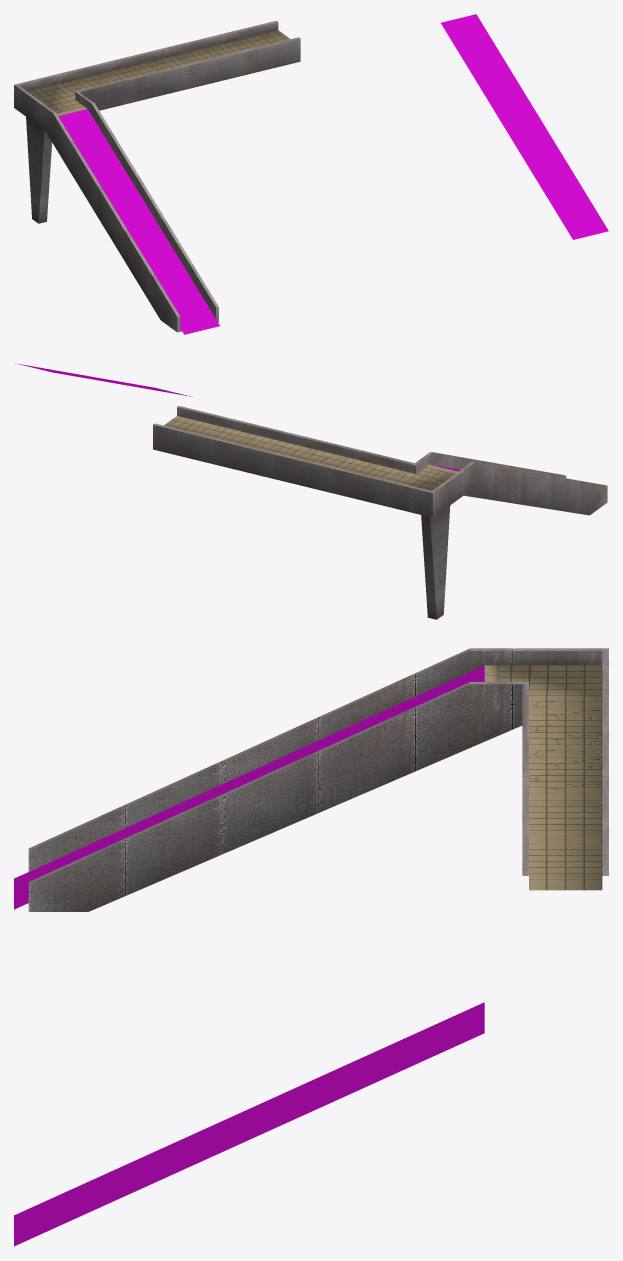
Rendered from M10Z1_FootBridge01.glb.
3 views of the same model, one above another, from view 1: azimuth 30°, elevation 25°; view 2: azimuth 150°, elevation 25°; view 3: azimuth 270°, elevation 25° (orthographic). The views are drawn at different scales.
Visible parts, largest first — view 1: M10Z1_FOOTBRIDGE01; view 2: M10Z1_FOOTBRIDGE01; view 3: M10Z1_FOOTBRIDGE01.
Boxes of the visible parts, left/top/right/bottom form: M10Z1_FOOTBRIDGE01: left=14, top=14, right=608, bottom=334; M10Z1_FOOTBRIDGE01: left=15, top=363, right=607, bottom=619; M10Z1_FOOTBRIDGE01: left=14, top=648, right=608, bottom=1246.
Bounding box in the file's own units: 29.79 × 8.54 × 20.22.
6 materials, 5 textured.
